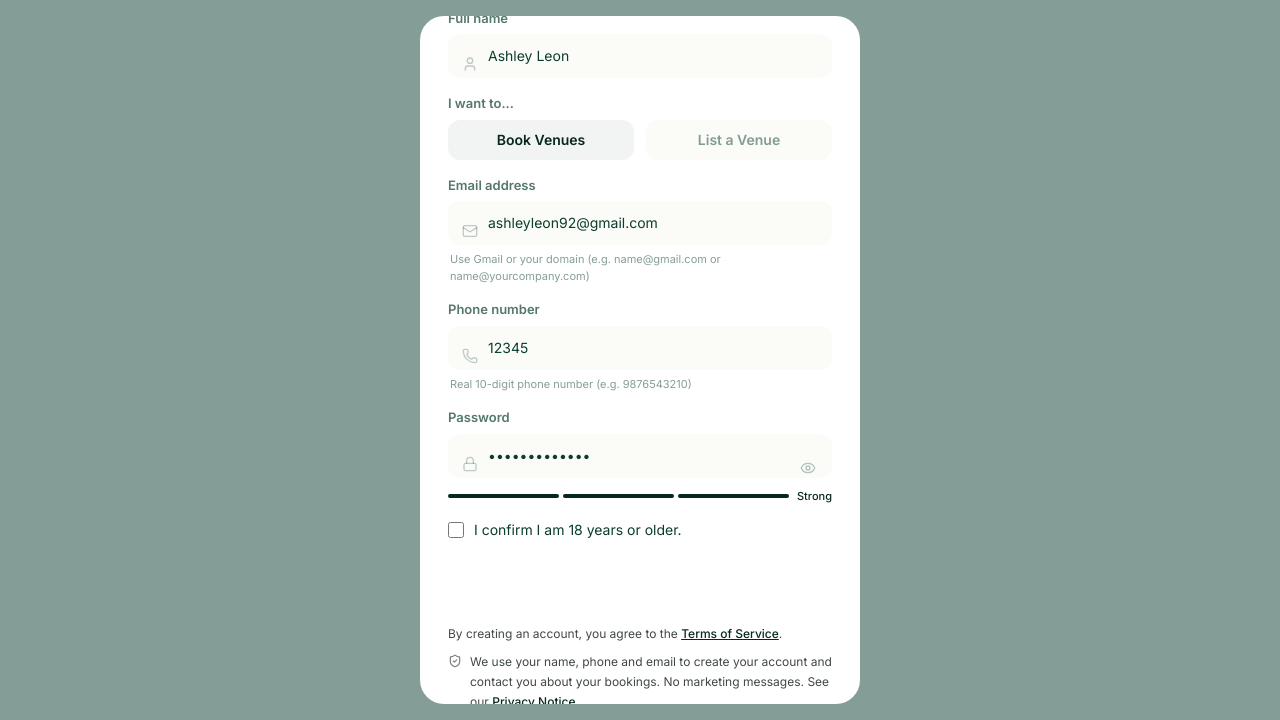
Test case: AuthModal component › validates phone number length to match real phone length (10 digits)
The width and height of the screenshot is (1280, 720).
Earlier steps of the test are not shown.
(page scrolled)
Replace the text in the field with placeholder "Your phone number" with "phone12345" at (640, 348), box [448,326,832,370]
(page scrolled)
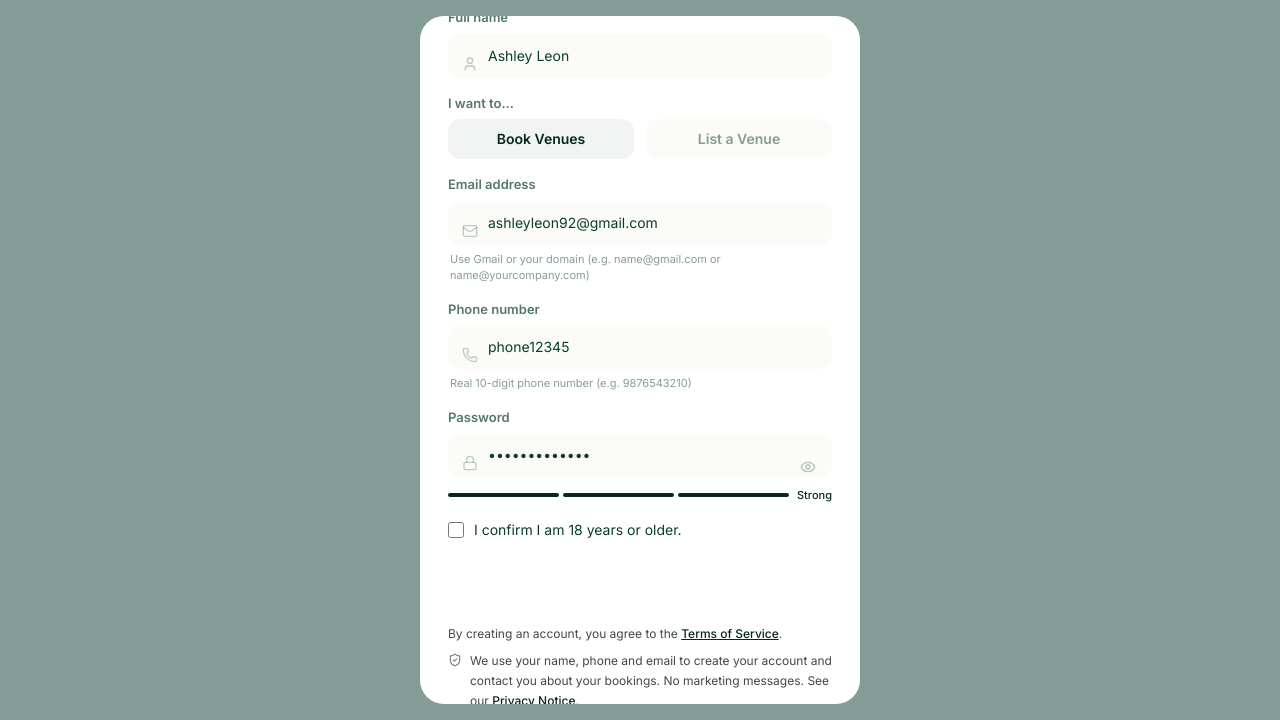
Submit the form with placeholder "Your full name", box [448,8,832,711]
(page scrolled)
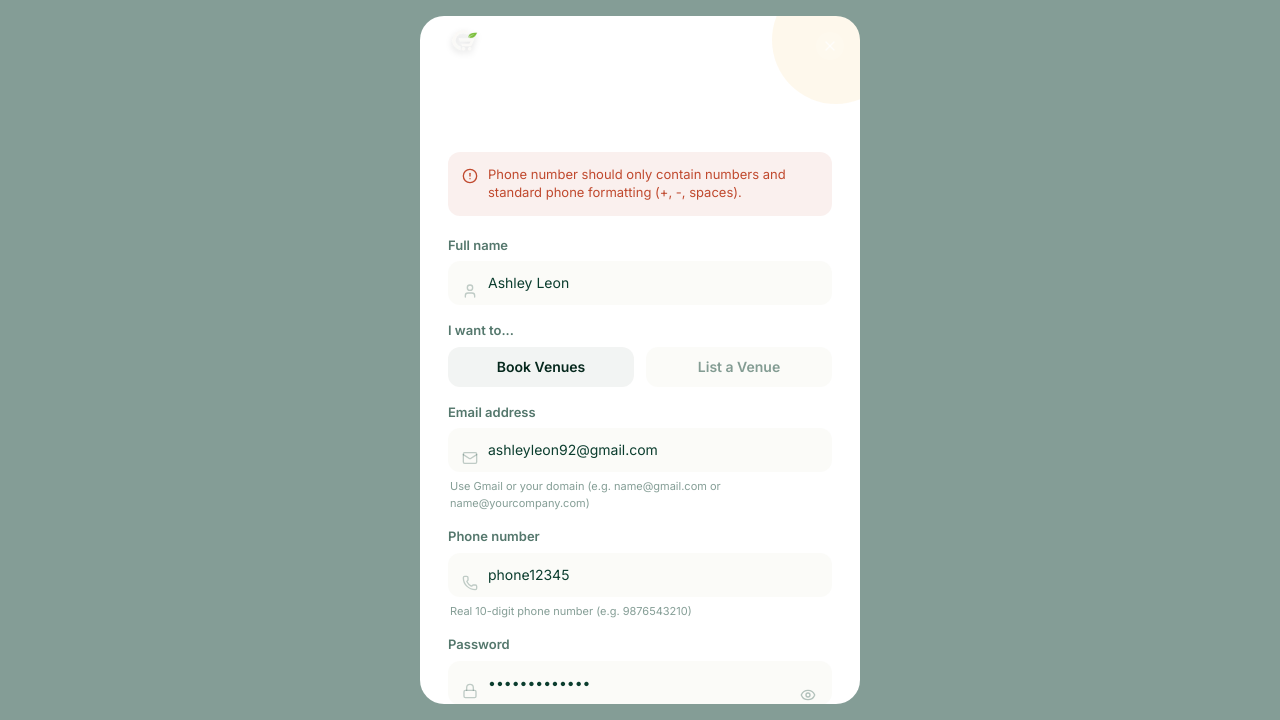
Result: the text "Phone number should only contain numbers" is shown at [488,166,786,200]
